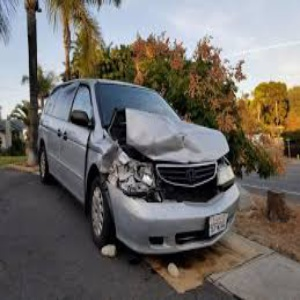bonnet: (118, 107, 229, 160)
head_lights: (115, 154, 160, 200)
